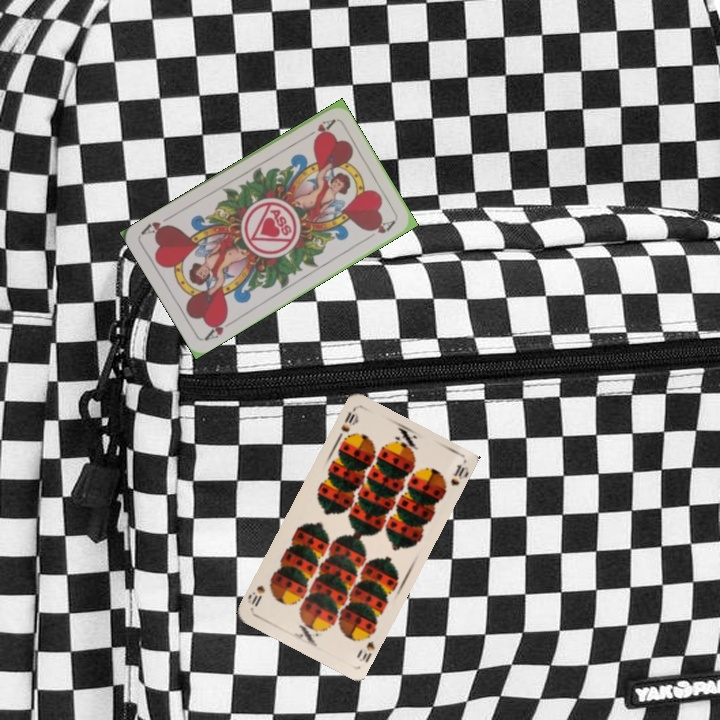HA: (201, 313, 237, 343), (300, 115, 337, 142)
S10: (353, 628, 377, 665), (337, 405, 361, 435)
